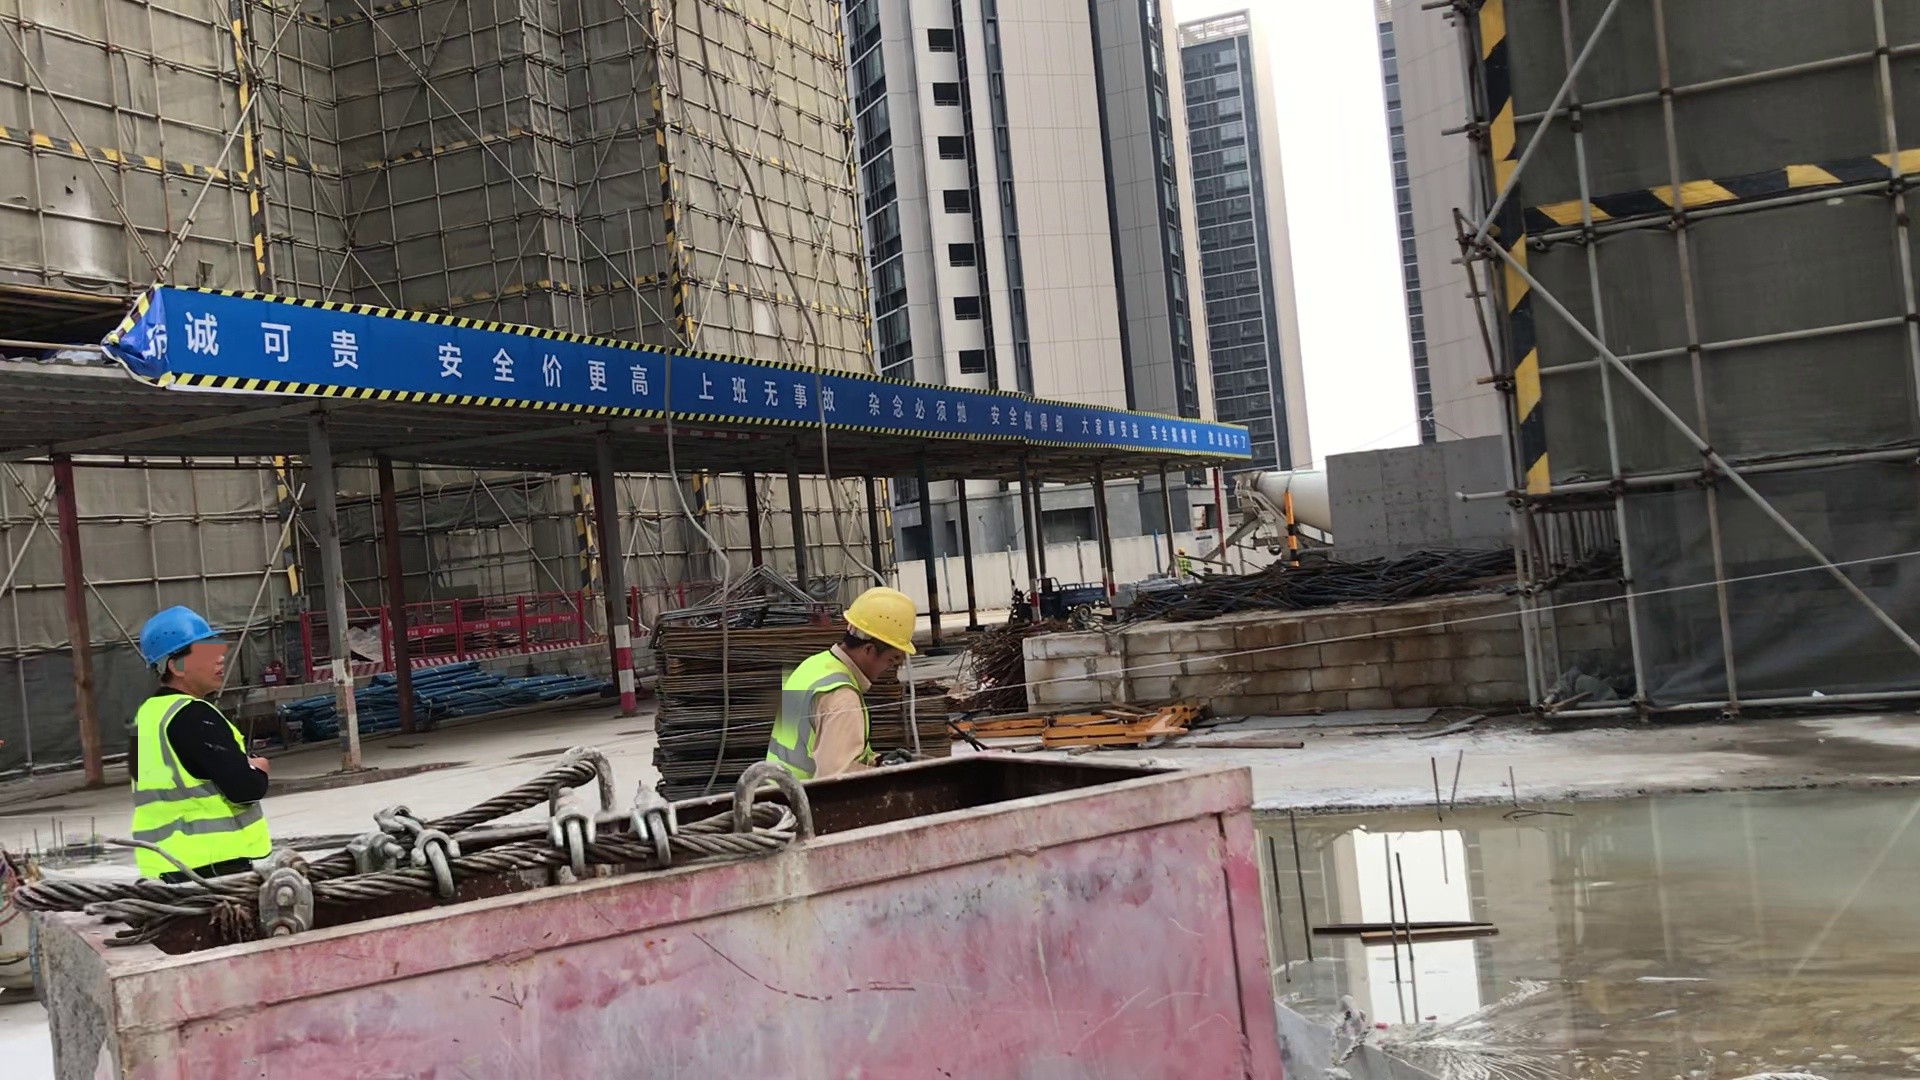helmet: (829, 581, 920, 651), (131, 598, 221, 666)
person: (104, 595, 287, 879), (773, 574, 910, 786)
vest: (121, 690, 278, 868), (772, 651, 870, 776)
